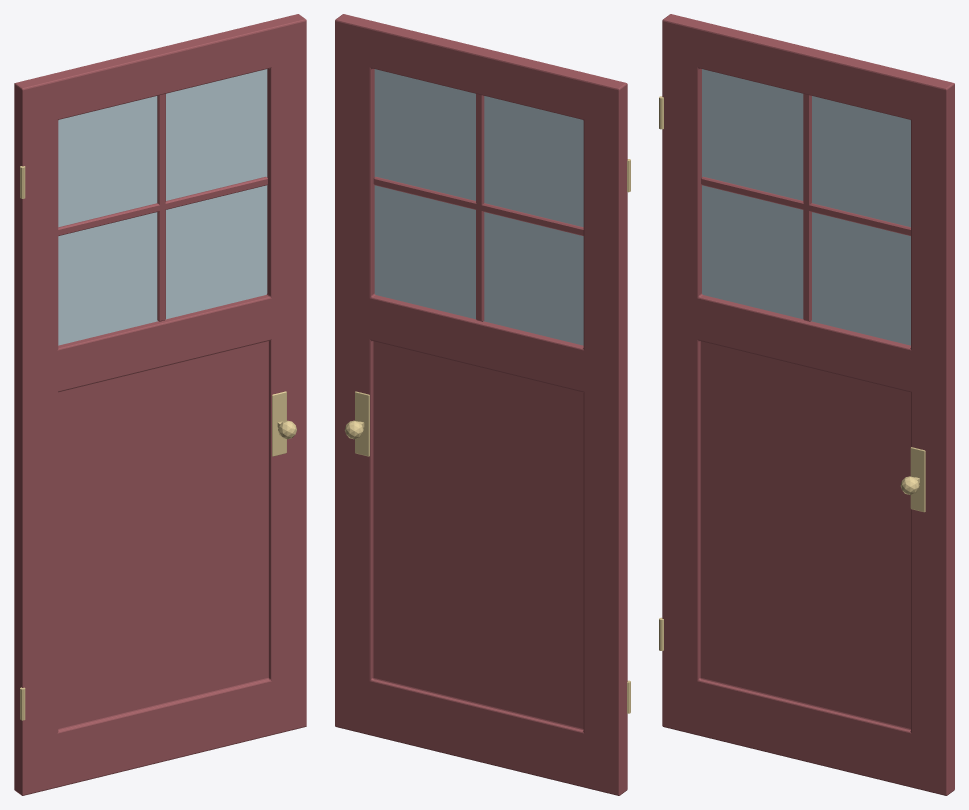
Rendered from door_leaf_front_c.glb.
The picture shows the model from 3 angles, left to right: view 1: azimuth 30°, elevation 25°; view 2: azimuth 150°, elevation 25°; view 3: azimuth 330°, elevation 25°; orthographic projection.
Parts seen in each view (by area): view 1: door_leaf_front_c_door_c, door_leaf_front_c_glass, door_leaf_front_c_brass; view 2: door_leaf_front_c_door_c, door_leaf_front_c_glass, door_leaf_front_c_brass; view 3: door_leaf_front_c_door_c, door_leaf_front_c_glass, door_leaf_front_c_brass.
Part boxes in pixels (x1=…): door_leaf_front_c_door_c: x1=14, y1=14, x2=306, y2=795; door_leaf_front_c_glass: x1=58, y1=69, x2=267, y2=345; door_leaf_front_c_brass: x1=20, y1=166, x2=296, y2=720; door_leaf_front_c_door_c: x1=335, y1=14, x2=627, y2=795; door_leaf_front_c_glass: x1=374, y1=69, x2=583, y2=345; door_leaf_front_c_brass: x1=344, y1=159, x2=630, y2=713; door_leaf_front_c_door_c: x1=662, y1=14, x2=954, y2=795; door_leaf_front_c_glass: x1=702, y1=69, x2=910, y2=345; door_leaf_front_c_brass: x1=659, y1=96, x2=925, y2=650.
Bounding box in the file's own units: 0.968 × 2.28 × 0.206.
